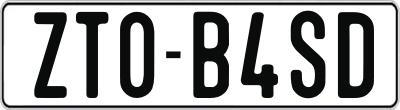0: (118, 9, 157, 95)
4: (240, 10, 282, 99)
B: (190, 10, 230, 97)
D: (337, 9, 377, 96)
S: (290, 8, 325, 98)
T: (76, 12, 112, 100)
Z: (33, 10, 71, 99)
